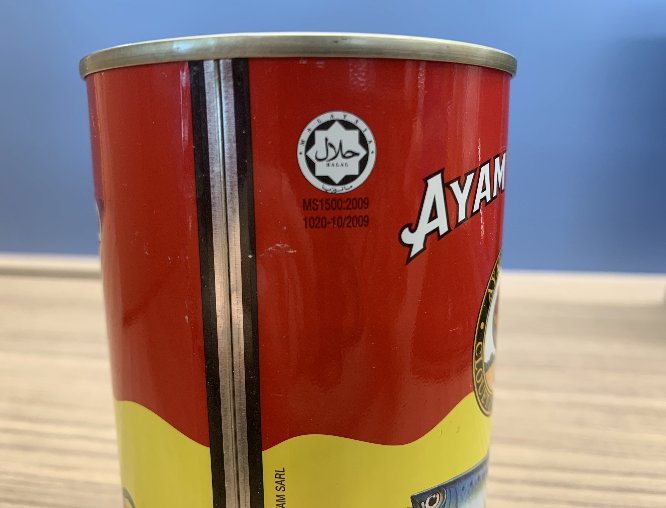halal: (314, 129, 361, 178)
